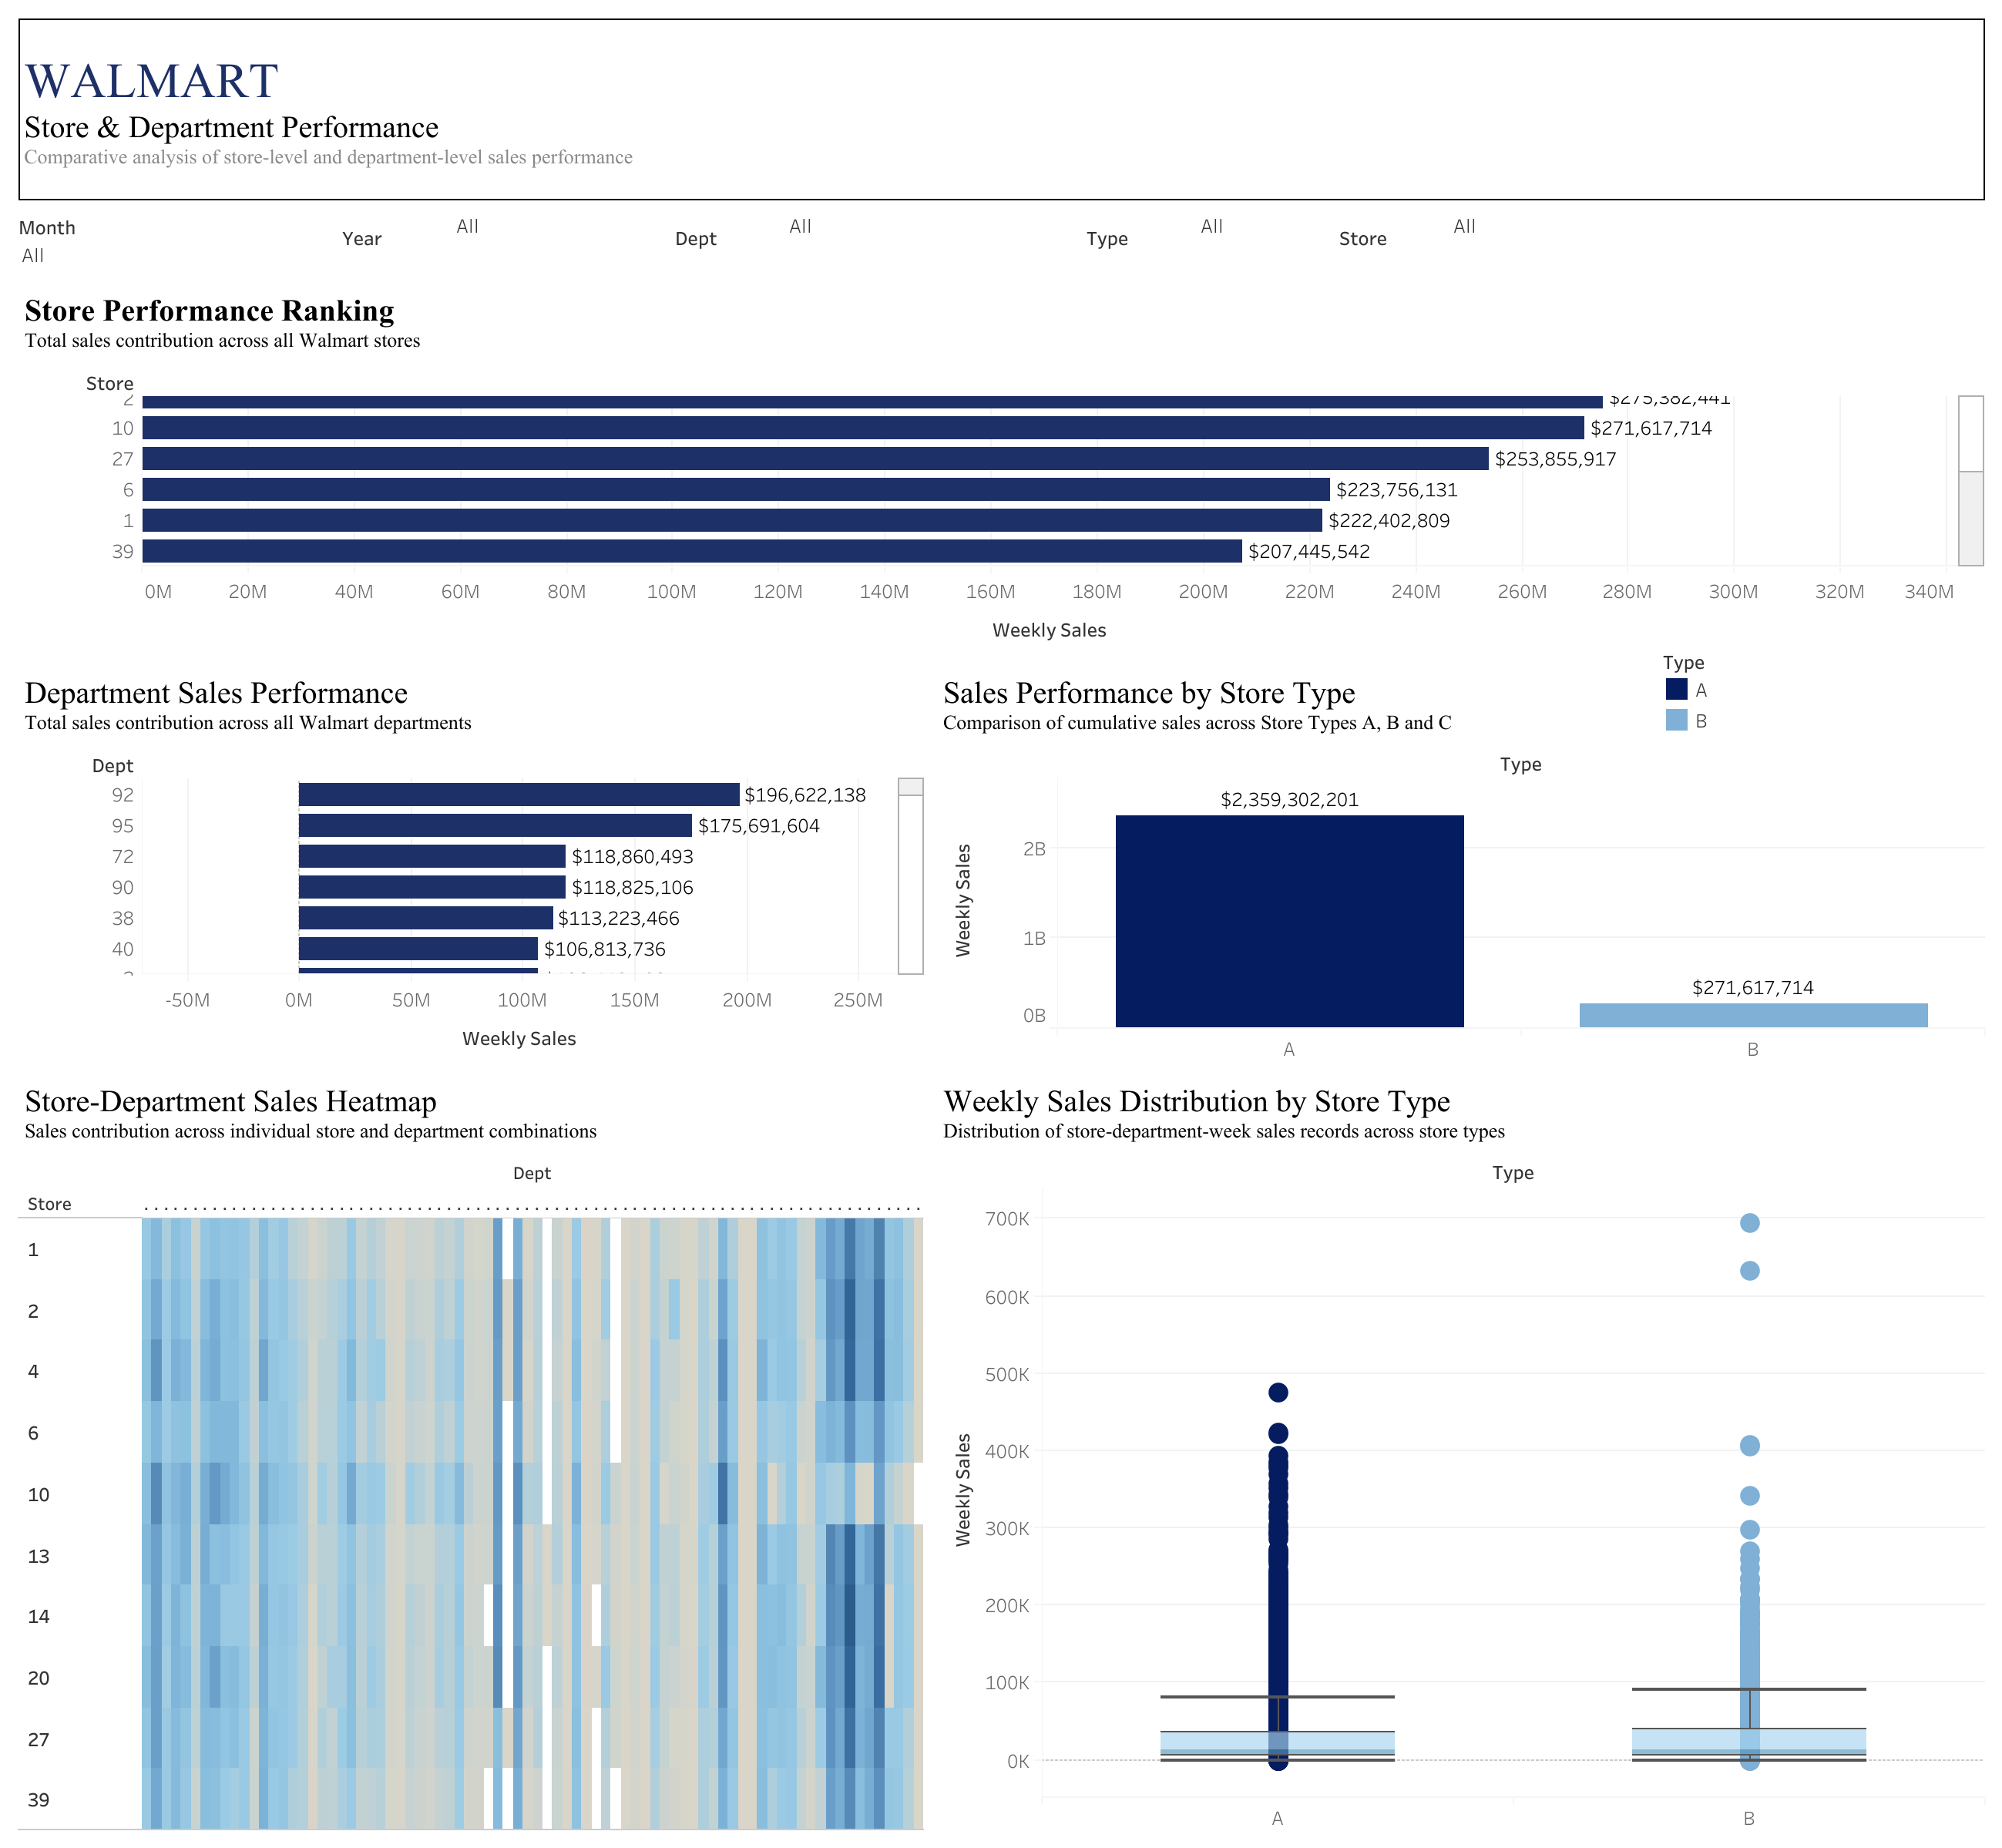

The dashboard page shown, as its layout file describes it:
{"tool":"tableau","page":{"name":"Dashboard 2 - Store & Department","canvas":[1300,1200],"ordinal":1},"visuals":[{"type":"text","box":[8,8,1284,125.5]},{"type":"filter","title":"Store Performance Ranking","param":"[federated.1agj3eh0mi5gkq17fmx2r0knmoc0].[none:Month:ok]","box":[8,133.5,210.2,46.9]},{"type":"filter","title":"Store Type Analysis","param":"[federated.1agj3eh0mi5gkq17fmx2r0knmoc0].[none:Year:ok]","box":[218.2,133.5,215.4,40.6]},{"type":"filter","title":"Store Type Analysis","param":"[federated.1agj3eh0mi5gkq17fmx2r0knmoc0].[none:Dept:ok]","box":[433.7,133.5,267.4,40.6]},{"type":"filter","title":"Store Type Analysis","param":"[federated.1agj3eh0mi5gkq17fmx2r0knmoc0].[none:Type:nk]","box":[701,133.5,163.5,40.6]},{"type":"filter","title":"Store Type Analysis","param":"[federated.1agj3eh0mi5gkq17fmx2r0knmoc0].[none:Store:ok]","box":[864.6,133.5,427.4,40.6]},{"type":"worksheet","title":"Store Performance Ranking","mark":"Automatic","rows":["Store"],"cols":["Weekly_Sales"],"box":[8,180.4,1284,247.2]},{"type":"legend","title":"Store Type Analysis","param":"[federated.1agj3eh0mi5gkq17fmx2r0knmoc0].[none:Type:nk]","box":[1078.1,418.1,121.3,98.5]},{"type":"worksheet","title":"Department Performance","mark":"Automatic","rows":["Dept"],"cols":["Weekly_Sales"],"box":[8,427.6,596.1,264.9]},{"type":"worksheet","title":"Store Type Analysis","mark":"Automatic","rows":["Weekly_Sales"],"cols":["Type"],"box":[604.1,427.6,687.9,264.9]},{"type":"worksheet","title":"Store Department Heatmap","mark":"Square","rows":["Store"],"cols":["Dept"],"box":[8,692.5,596.1,499.5]},{"type":"worksheet","title":"Sales Distribution by Store Type","mark":"Circle","rows":["Weekly_Sales"],"cols":["Type"],"box":[604.1,692.5,687.9,499.5]}]}

Visuals, with their boxes in screenshot pixels (x1, y1, x2, y2), scaled from the page's 1300x1200 canvas onto the 2002x1848 screenshot:
text: bbox=(12, 12, 1990, 206)
"Store Performance Ranking" filter: bbox=(12, 206, 336, 277)
"Store Type Analysis" filter: bbox=(336, 206, 668, 268)
"Store Type Analysis" filter: bbox=(668, 206, 1080, 268)
"Store Type Analysis" filter: bbox=(1080, 206, 1332, 268)
"Store Type Analysis" filter: bbox=(1332, 206, 1990, 268)
"Store Performance Ranking" worksheet: bbox=(12, 277, 1990, 658)
"Store Type Analysis" legend: bbox=(1661, 644, 1847, 795)
"Department Performance" worksheet: bbox=(12, 658, 930, 1067)
"Store Type Analysis" worksheet: bbox=(930, 658, 1990, 1067)
"Store Department Heatmap" worksheet (Square marks): bbox=(12, 1067, 930, 1836)
"Sales Distribution by Store Type" worksheet (Circle marks): bbox=(930, 1067, 1990, 1836)
